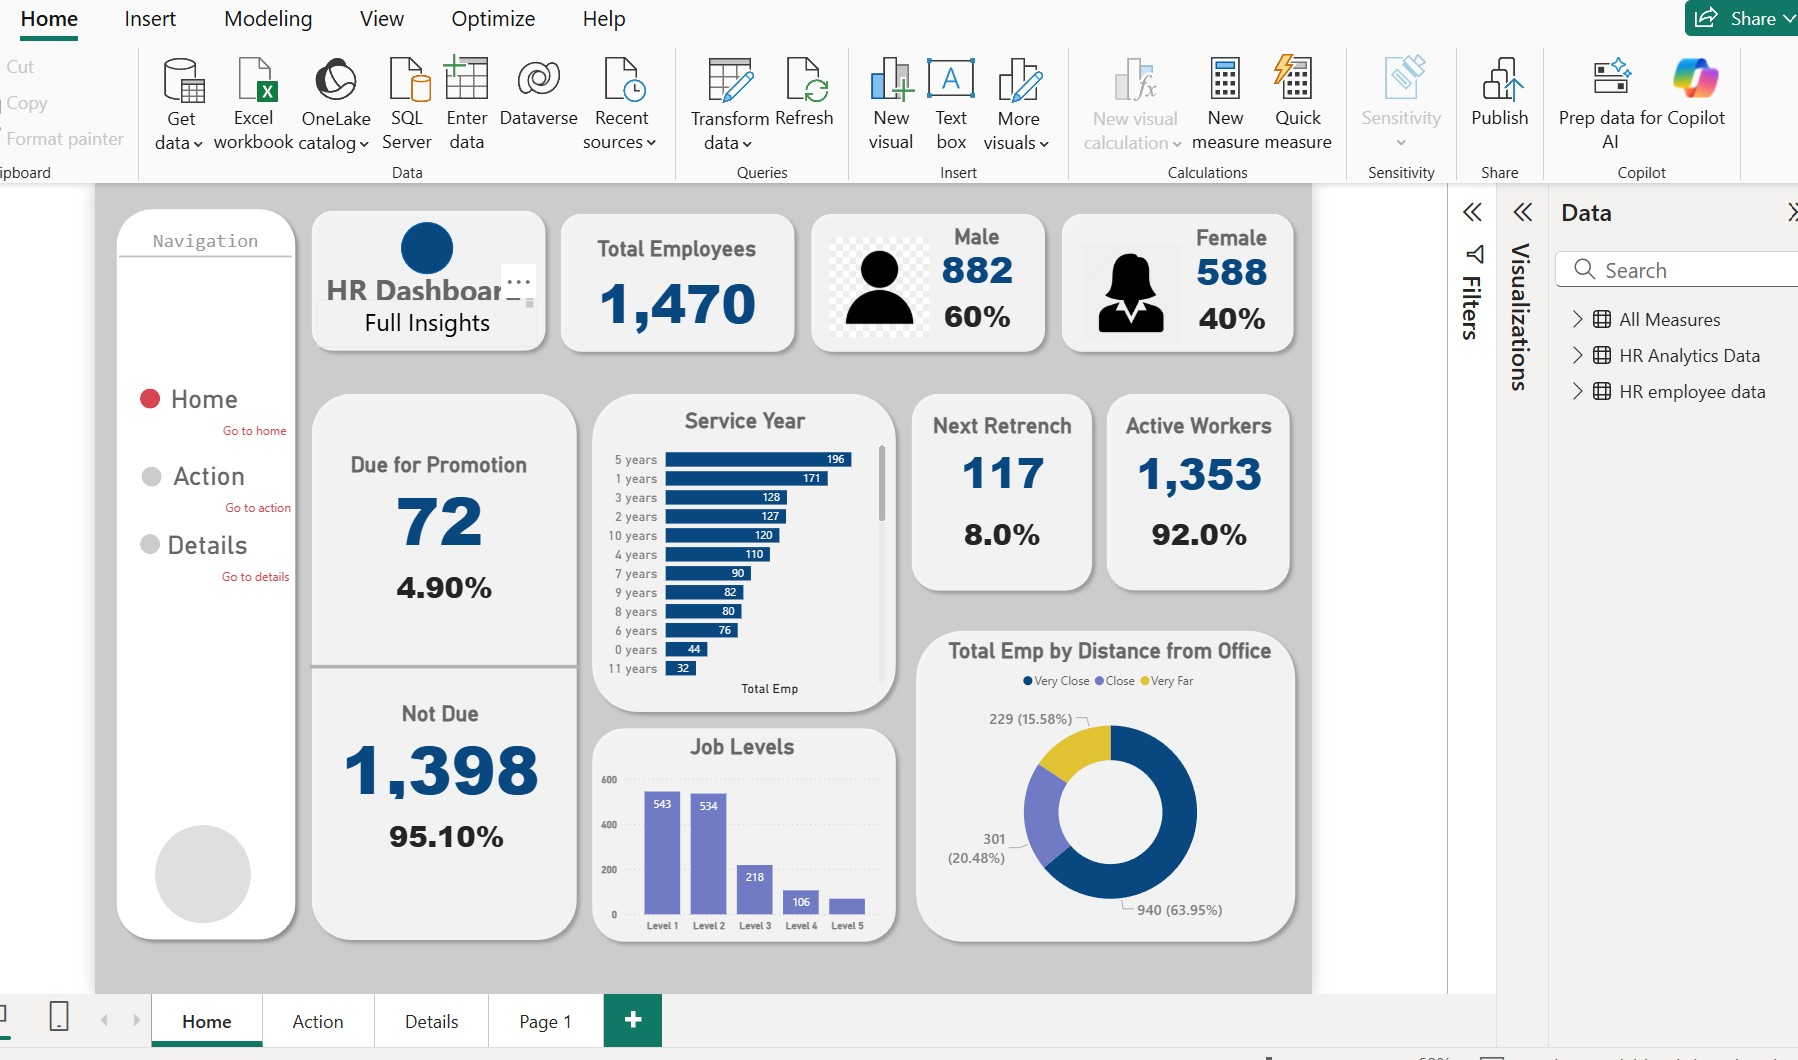

Layout of this report page (visuals, bound fields, positions):
{"tool":"powerbi","page":{"name":"Home","canvas":[1350,900],"ordinal":0},"visuals":[{"type":"shape","box":[14.3,20.4,216.3,828.6],"z":0},{"type":"shape","box":[230.6,22.4,277.6,173.5],"z":1000},{"type":"shape","box":[508.2,24.5,277.6,171.4],"z":2000},{"type":"shape","box":[785.7,24.5,277.6,171.4],"z":3000},{"type":"shape","box":[1063.3,24.5,275.5,171.4],"z":4000},{"type":"shape","box":[230.6,224.5,312.2,624.5],"z":5000},{"type":"shape","box":[542.9,224.5,355.1,371.4],"z":6000},{"type":"shape","box":[542.9,595.9,355.1,255.1],"z":7000},{"type":"shape","box":[902,487.8,438.8,363.3],"z":8000},{"type":"shape","box":[898,224.5,218.4,236.7],"z":9000},{"type":"shape","box":[1113.6,224.2,221.2,236.4],"z":10000},{"type":"textbox","box":[246.4,91.3,244.9,52.2],"z":11000},{"type":"textbox","box":[246.4,130.4,244.9,50.7],"z":12000},{"type":"shape","box":[339.8,43.2,58,58],"z":13000},{"type":"card","title":"Total Employees","fields":{"Values":["All Measures.Total Emp"]},"box":[536.4,58,219.3,115.9],"z":14000},{"type":"card","title":"Male","fields":{"Values":["All Measures.Male"]},"box":[905.8,44.8,146.6,72.7],"z":15000},{"type":"card","title":"Male","fields":{"Values":["All Measures.% Male"]},"box":[905.8,110.7,146.6,72.7],"z":16000},{"type":"card","title":"Female","fields":{"Values":["All Measures.Female"]},"box":[1189,46.5,146.1,73.7],"z":17000},{"type":"card","title":"Male","fields":{"Values":["All Measures.% Female"]},"box":[1188.9,112.9,146.6,72.7],"z":18000},{"type":"image","box":[1089.5,50,122.4,143.4],"z":19000},{"type":"image","box":[805.7,55.7,129.5,121.6],"z":20000},{"type":"card","title":"Due for Promotion","fields":{"Values":["All Measures.Due for promotion"]},"box":[253.9,298.2,253.9,114.5],"z":21000},{"type":"card","title":"Male","fields":{"Values":["All Measures.% Due"]},"box":[312.3,410.5,149.1,73.7],"z":22000},{"type":"shape","box":[238.2,517.1,298.7,38.2],"z":23000},{"type":"card","title":"Not Due","fields":{"Values":["All Measures.Not due"]},"box":[256.1,574,253.9,114.5],"z":24000},{"type":"card","title":"Male","fields":{"Values":["All Measures.% Not due"]},"box":[315.8,687.7,147.4,73.7],"z":25000},{"type":"barChart","title":"Service Year","fields":{"Y":["All Measures.Total Emp"],"Category":["HR Analytics Data.Service Year"]},"box":[560.5,250,321.1,323.7],"z":26000},{"type":"columnChart","title":"Job Levels","fields":{"Category":["HR Analytics Data.Job Levels"],"Y":["All Measures.Total Emp"]},"box":[556.6,610.5,325,226.3],"z":27000},{"type":"card","title":"Active Workers","fields":{"Values":["All Measures.On Service"]},"box":[1134.8,268.2,180.3,89.4],"z":28000},{"type":"card","title":"Male","fields":{"Values":["All Measures.% On Service"]},"box":[1134.8,353,180.3,72.7],"z":29000},{"type":"card","title":"Next Retrench","fields":{"Values":["All Measures.To Retrench"]},"box":[919.7,268.2,175.8,87.9],"z":30000},{"type":"card","title":"To Retrench","fields":{"Values":["All Measures.% Retrench"]},"box":[924.2,357.6,165.2,63.6],"z":31000},{"type":"donutChart","title":"Total Emp by Distance from Office","fields":{"Category":["HR Analytics Data.Distance Status"],"Y":["All Measures.Total Emp"]},"box":[936.4,504.5,378.8,330.3],"z":32000},{"type":"textbox","box":[29.8,47.4,186,49.1],"z":33000},{"type":"shape","box":[26.3,75,192.1,13.2],"z":34000},{"type":"actionButton","title":"Home","box":[26.6,223.2,189.8,61.6],"z":35000},{"type":"shape","box":[50,227.6,22.4,22.4],"z":36000},{"type":"actionButton","title":"Details","box":[30,384.7,189.8,63.3],"z":37000},{"type":"shape","box":[49.8,390.1,22.4,22.4],"z":38000},{"type":"shape","box":[67.1,713.2,106.6,109.2],"z":39000},{"type":"actionButton","title":"Action","box":[31.6,308.1,189.8,61.6],"z":40000},{"type":"shape","box":[51.1,314.3,22.4,22.4],"z":41000}]}

Visuals, with their boxes on the page's 1350x900 design canvas (x1, y1, x2, y2). These are canvas units, not pixel positions in the 1798x1060 screenshot, which may show the page scaled, cropped or inside an application window:
shape: 14:20:231:849
shape: 231:22:508:196
shape: 508:24:786:196
shape: 786:24:1063:196
shape: 1063:24:1339:196
shape: 231:224:543:849
shape: 543:224:898:596
shape: 543:596:898:851
shape: 902:488:1341:851
shape: 898:224:1116:461
shape: 1114:224:1335:461
textbox: 246:91:491:144
textbox: 246:130:491:181
shape: 340:43:398:101
"Total Employees" card: 536:58:756:174
"Male" card: 906:45:1052:118
"Male" card: 906:111:1052:183
"Female" card: 1189:46:1335:120
"Male" card: 1189:113:1336:186
image: 1090:50:1212:193
image: 806:56:935:177
"Due for Promotion" card: 254:298:508:413
"Male" card: 312:410:461:484
shape: 238:517:537:555
"Not Due" card: 256:574:510:688
"Male" card: 316:688:463:761
"Service Year" barChart: 560:250:882:574
"Job Levels" columnChart: 557:610:882:837
"Active Workers" card: 1135:268:1315:358
"Male" card: 1135:353:1315:426
"Next Retrench" card: 920:268:1096:356
"To Retrench" card: 924:358:1089:421
"Total Emp by Distance from Office" donutChart: 936:504:1315:835
textbox: 30:47:216:96
shape: 26:75:218:88
"Home" actionButton: 27:223:216:285
shape: 50:228:72:250
"Details" actionButton: 30:385:220:448
shape: 50:390:72:412
shape: 67:713:174:822
"Action" actionButton: 32:308:221:370
shape: 51:314:74:337
